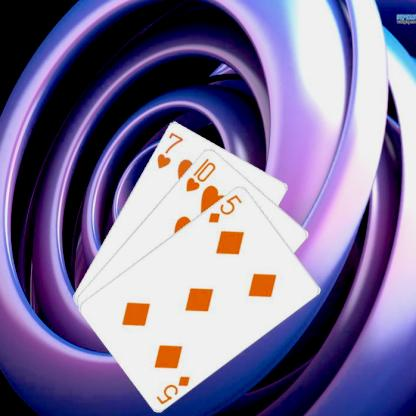10H: (183, 155, 217, 193)
5D: (153, 372, 192, 406), (205, 191, 244, 224)
7H: (154, 129, 185, 170)
